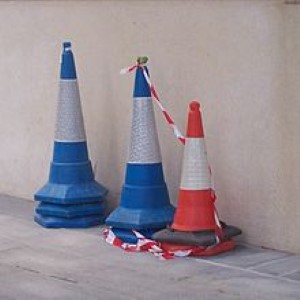traffic cone: (105, 55, 180, 231), (152, 100, 242, 246), (34, 41, 109, 204)
